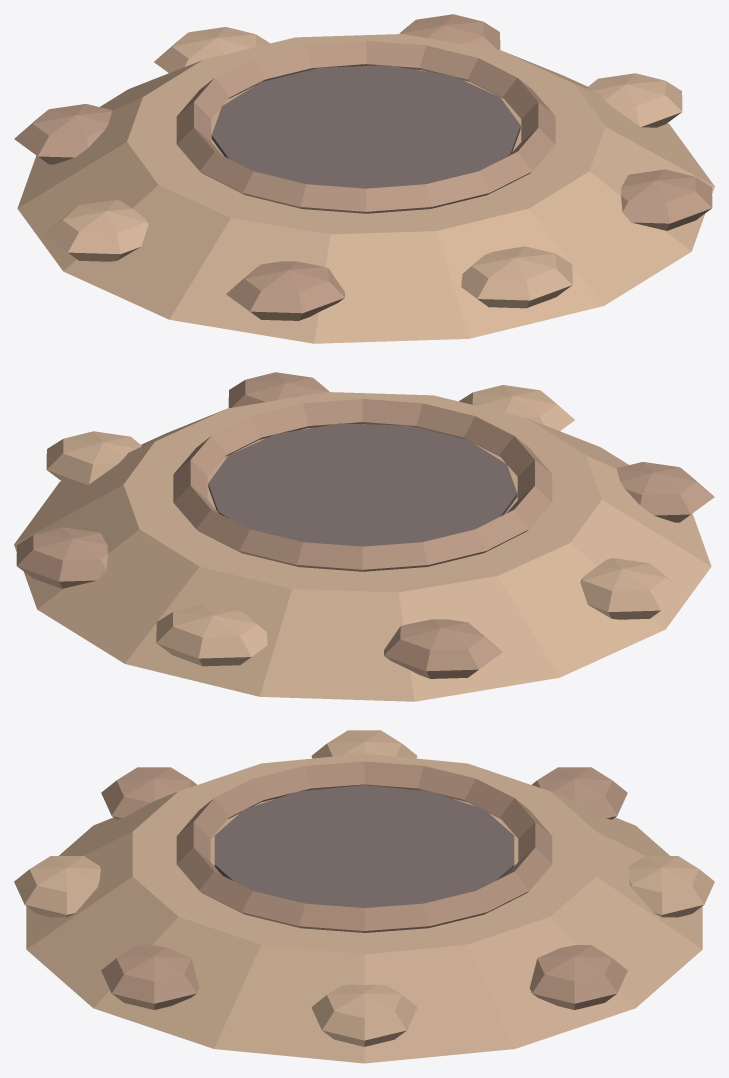
File: madriguera.glb
The picture shows the model from 3 angles, top to bottom: view 1: azimuth 30°, elevation 25°; view 2: azimuth 150°, elevation 25°; view 3: azimuth 270°, elevation 25°; orthographic projection.
Parts seen in each view (by area): view 1: madriguera; view 2: madriguera; view 3: madriguera.
Boxes of the visible parts, x1,y1,x2,y2 form: madriguera: (14,14,714,343); madriguera: (14,372,714,701); madriguera: (14,730,714,1063).
Size of the model in its own units: 1.45 by 0.183 by 1.41.
